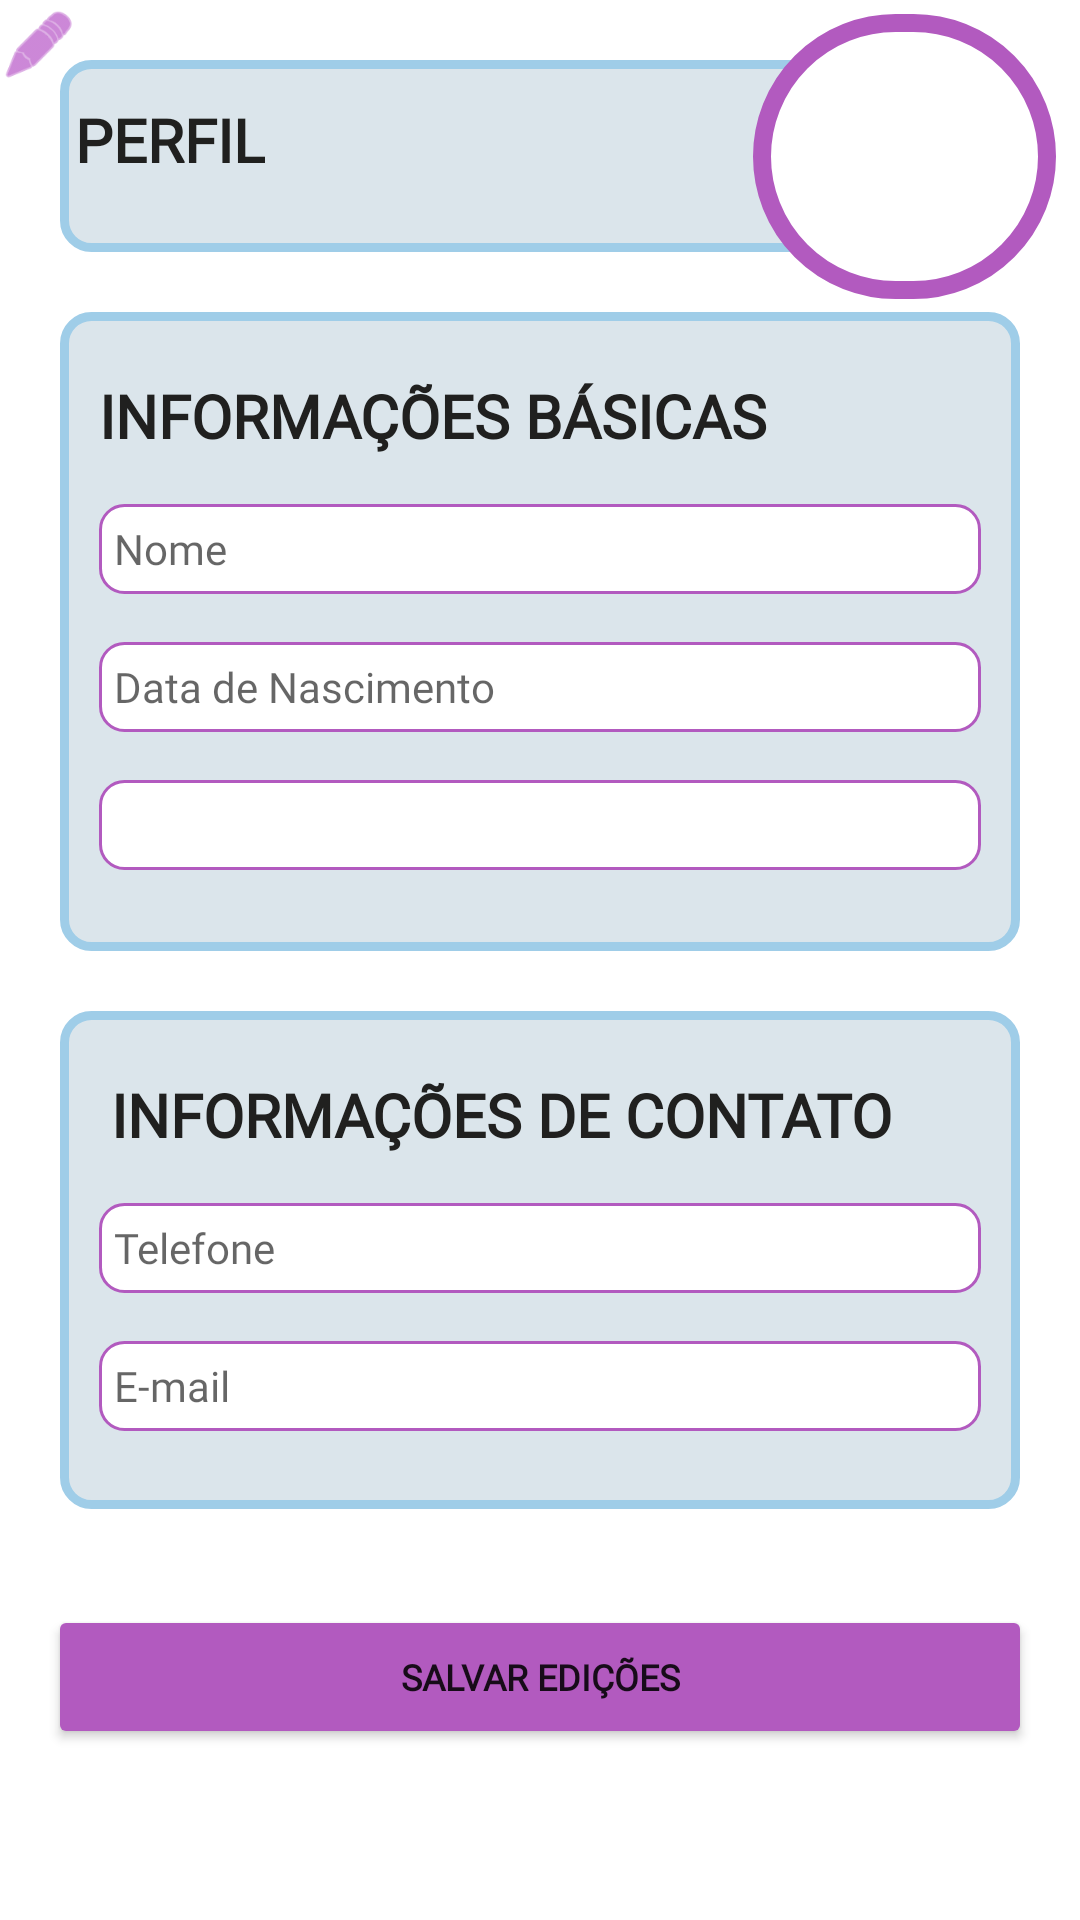

Screen size 1080 × 1920. Icon name, then its box in pixels as bbox(x1, y1, x2, y2):
edit: bbox(6, 12, 72, 78)
